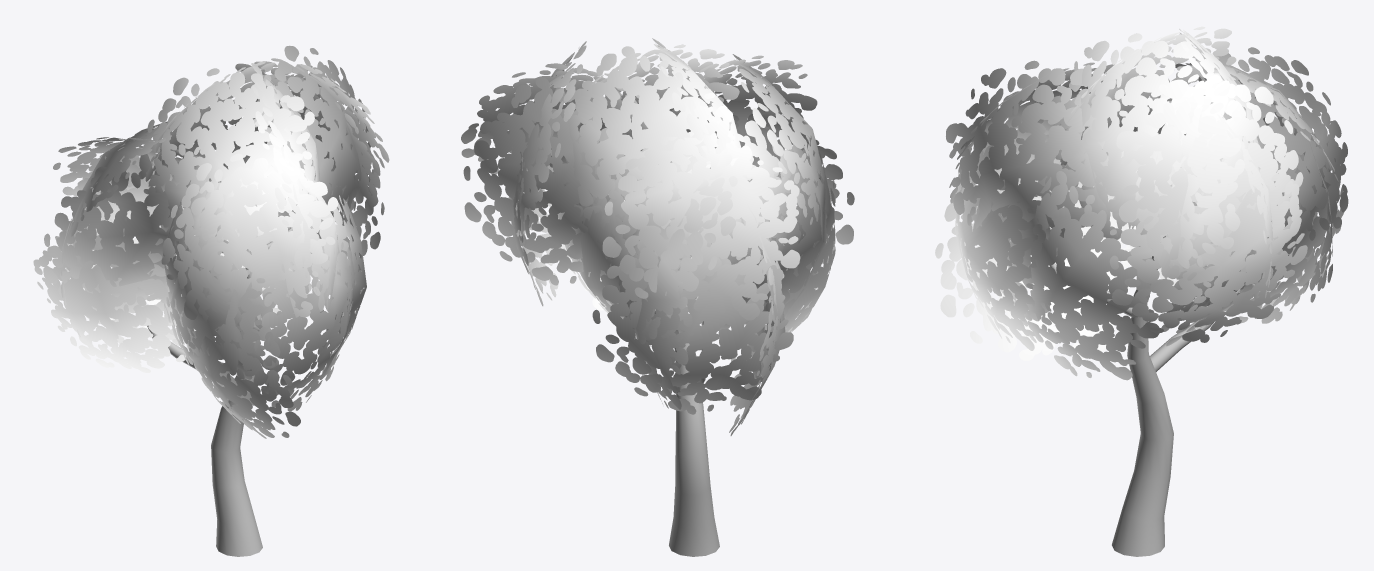
The model's file is Tree1.fbx.
3 views of the same model, side by side, from view 1: azimuth 30°, elevation 25°; view 2: azimuth 150°, elevation 25°; view 3: azimuth 270°, elevation 25° (orthographic). The views are drawn at different scales.
Parts seen in each view (by area): view 1: Canopy1; view 2: Canopy1; view 3: Canopy1.
Part boxes in pixels (x1=…): Canopy1: x1=33, y1=45, x2=389, y2=556; Canopy1: x1=461, y1=38, x2=854, y2=556; Canopy1: x1=935, y1=26, x2=1348, y2=556.
Size of the model in its own units: 11.85 by 15.84 by 11.59.
